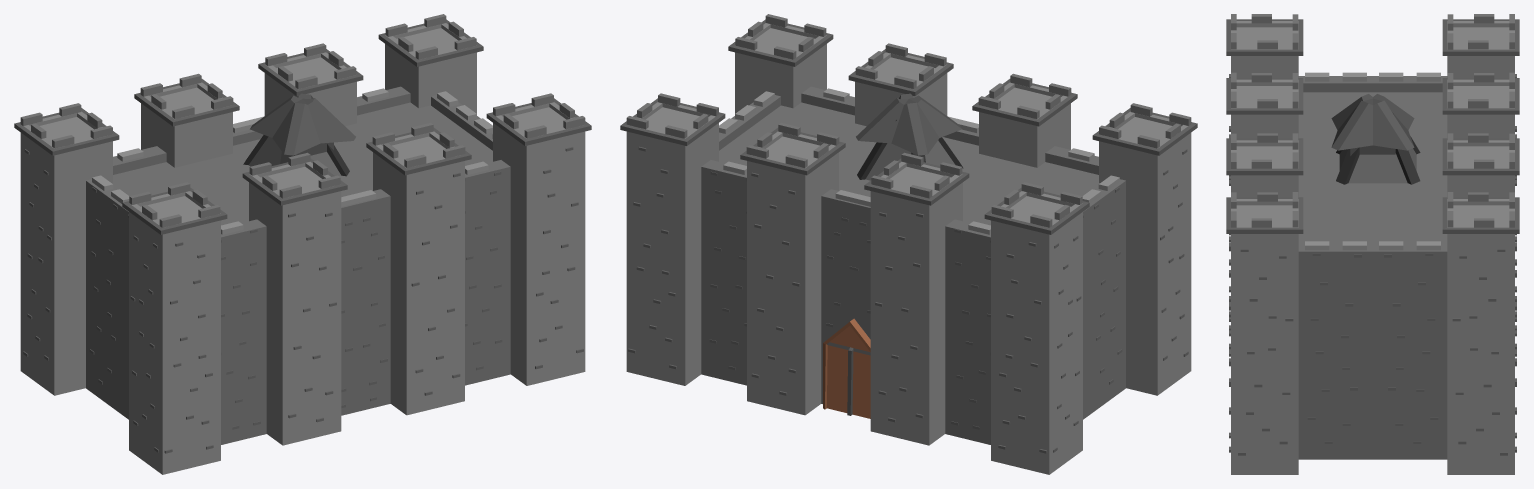
The model's file is CastleWalls.fbx.
3 views of the same model, side by side, from view 1: azimuth 30°, elevation 25°; view 2: azimuth 150°, elevation 25°; view 3: azimuth 270°, elevation 25° (orthographic).
Visible parts, largest first — view 1: Castle, InnerWallSide; view 2: Castle, InnerWallSide; view 3: Castle, InnerWallSide.
Part boxes in pixels (x1=…): Castle: x1=14, y1=14, x2=591, y2=474; InnerWallSide: x1=243, y1=135, x2=349, y2=176; Castle: x1=620, y1=14, x2=1197, y2=474; InnerWallSide: x1=857, y1=119, x2=963, y2=180; Castle: x1=1226, y1=14, x2=1519, y2=474; InnerWallSide: x1=1336, y1=113, x2=1420, y2=184.
Size of the model in its own units: 96.71 by 56.99 by 58.56.
